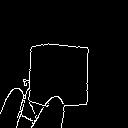cube: (24, 36, 96, 118)
